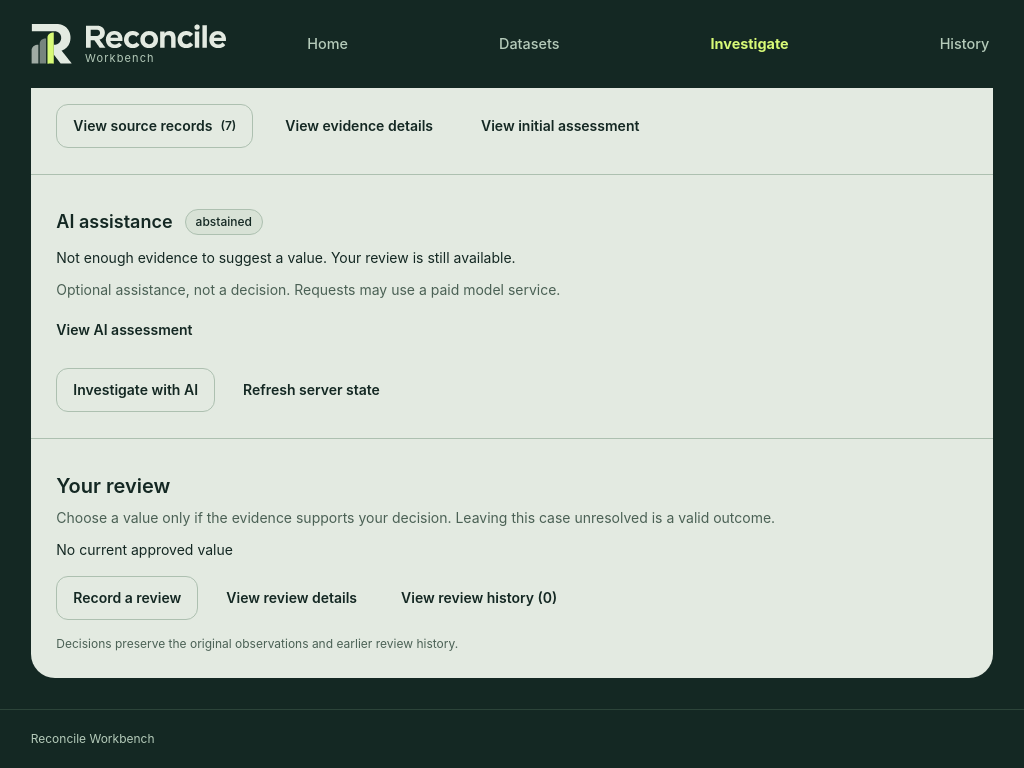
it: keeps AI abstained distinct and prevents accepting it
(page scrolled)
Check: the heading "Your review" is shown, box [56,474,170,498]
Click the button "Record a review".
click(127, 598)  # box [56,576,198,620]
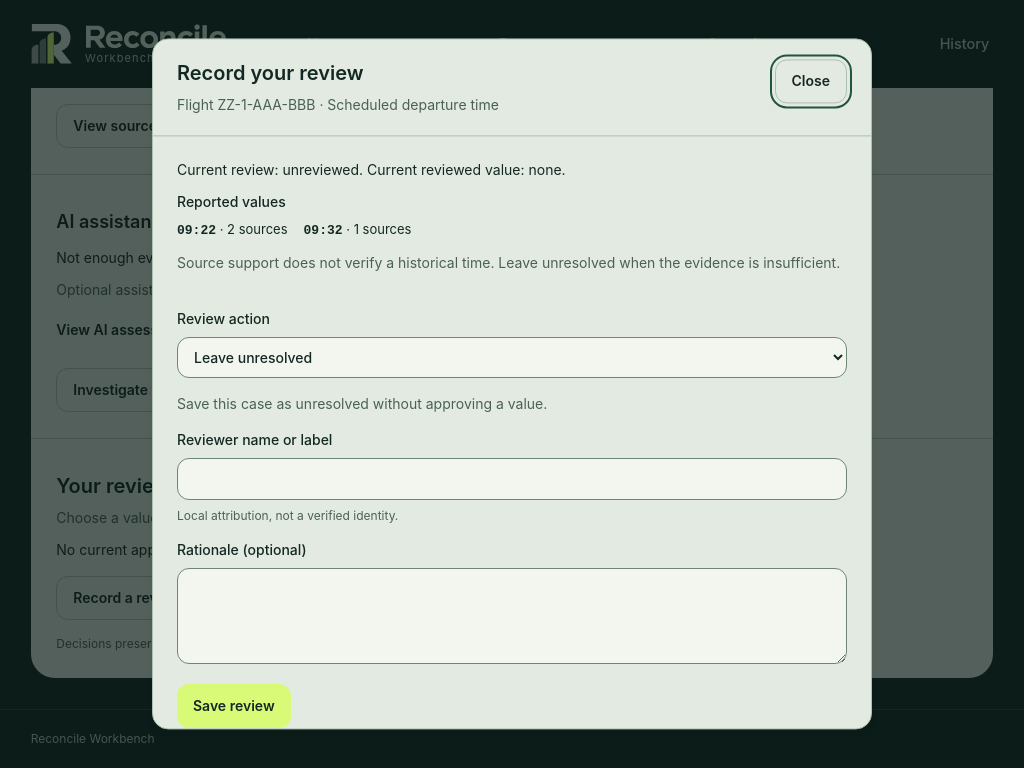
Check: the text "abstained" is shown, box [185,209,263,235]
Check: the button "Save review" is enabled, box [177,684,291,728]
